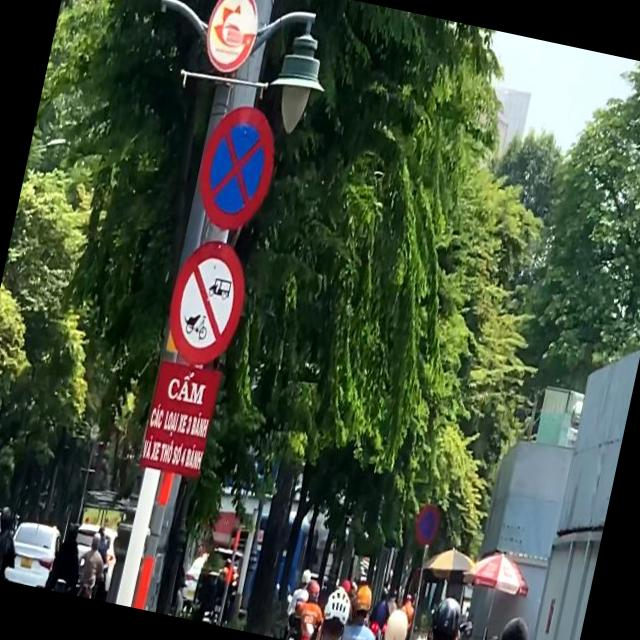P-130: (190, 98, 282, 235)
